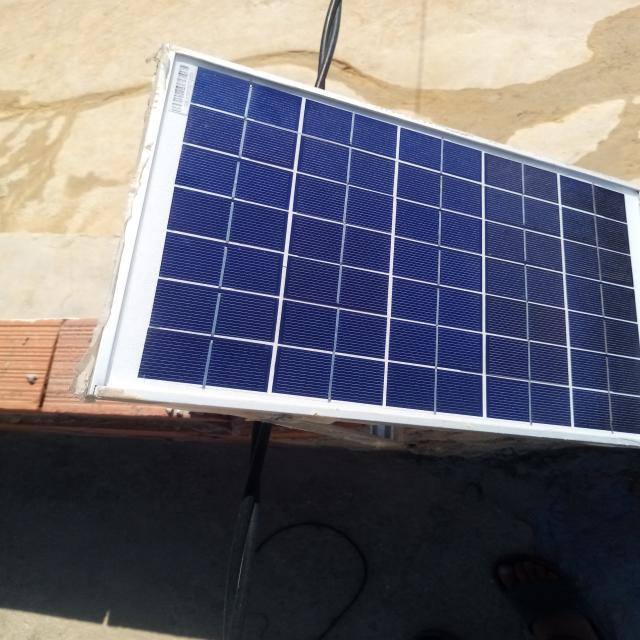no faulty: (94, 48, 640, 446)
